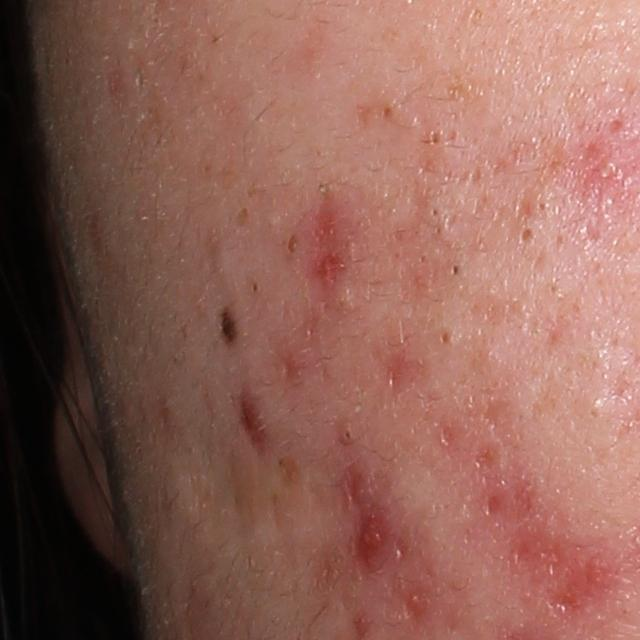atrophic_scar: (512, 516, 575, 579), (315, 188, 353, 287), (554, 554, 607, 620), (477, 476, 537, 529), (381, 342, 423, 396), (468, 437, 504, 474), (485, 397, 510, 431)
comedo: (578, 395, 610, 427), (331, 286, 358, 313), (283, 231, 302, 259), (515, 222, 536, 245), (435, 326, 455, 348), (378, 101, 398, 123), (338, 424, 356, 446), (426, 128, 445, 148), (447, 261, 464, 280), (532, 200, 550, 215), (249, 279, 264, 295), (428, 204, 442, 221)
nevus: (215, 301, 242, 350)
papule: (590, 134, 637, 204), (354, 514, 391, 566), (238, 388, 269, 439)
